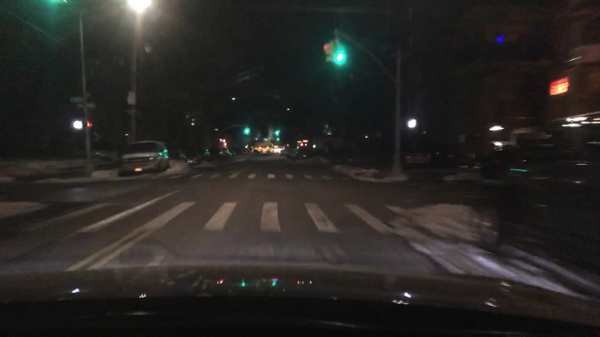car: (462, 112, 599, 270), (119, 141, 169, 176), (483, 142, 521, 180), (520, 142, 569, 162), (433, 143, 474, 166), (391, 145, 431, 166), (71, 147, 111, 161), (178, 148, 203, 165), (201, 147, 221, 161), (217, 148, 235, 159), (261, 150, 270, 156), (272, 148, 281, 154), (252, 147, 259, 154)
traffic light: (334, 41, 344, 64), (323, 41, 333, 63), (405, 118, 418, 131), (73, 120, 83, 130), (273, 129, 281, 137), (86, 121, 94, 129), (243, 126, 250, 134), (275, 136, 281, 143), (222, 142, 228, 147), (299, 142, 304, 147)
traffic sign: (77, 101, 97, 110), (127, 91, 135, 105), (69, 96, 84, 103)
